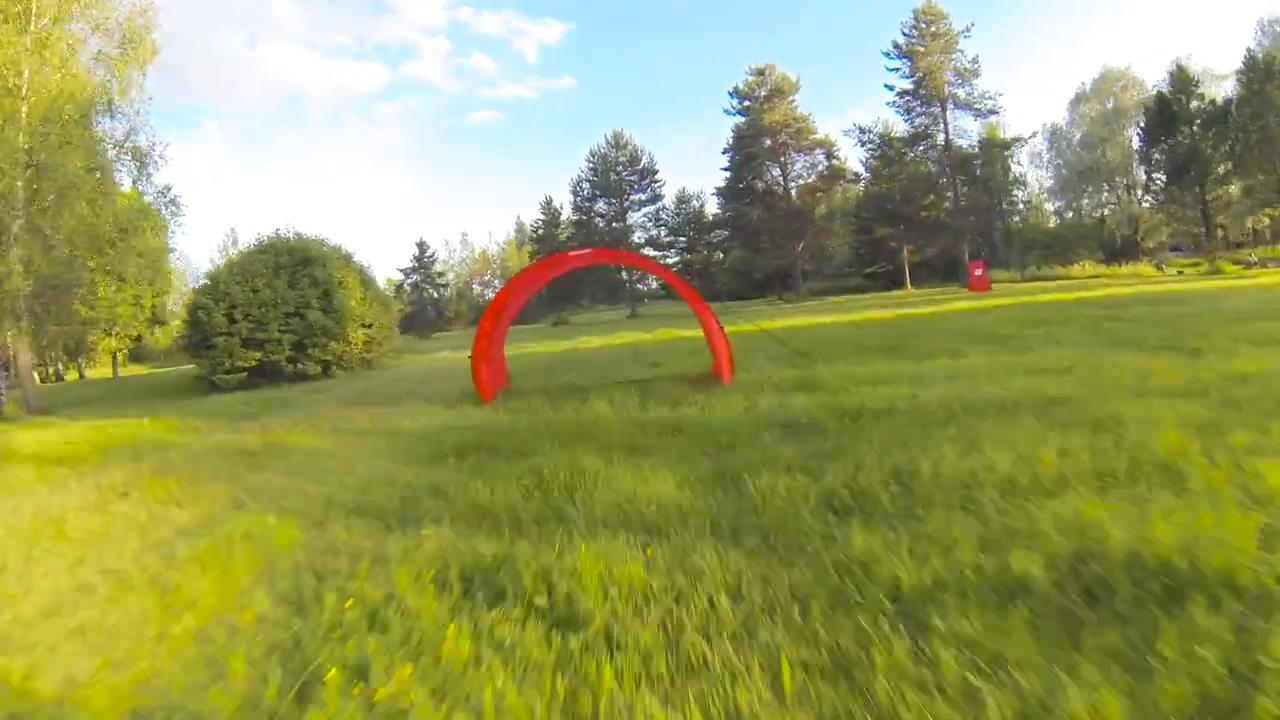gate: (469, 240, 740, 402)
